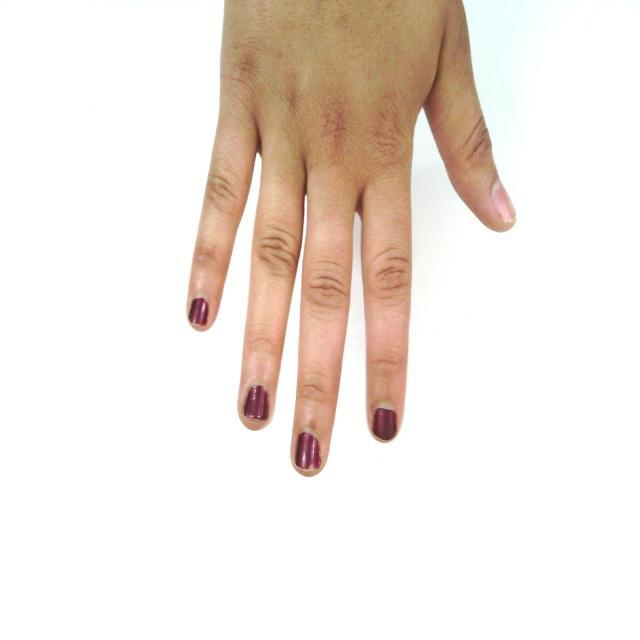Fingernail: (493, 182, 516, 222), (296, 433, 320, 470), (244, 387, 268, 420), (373, 408, 397, 441), (189, 298, 207, 326)
